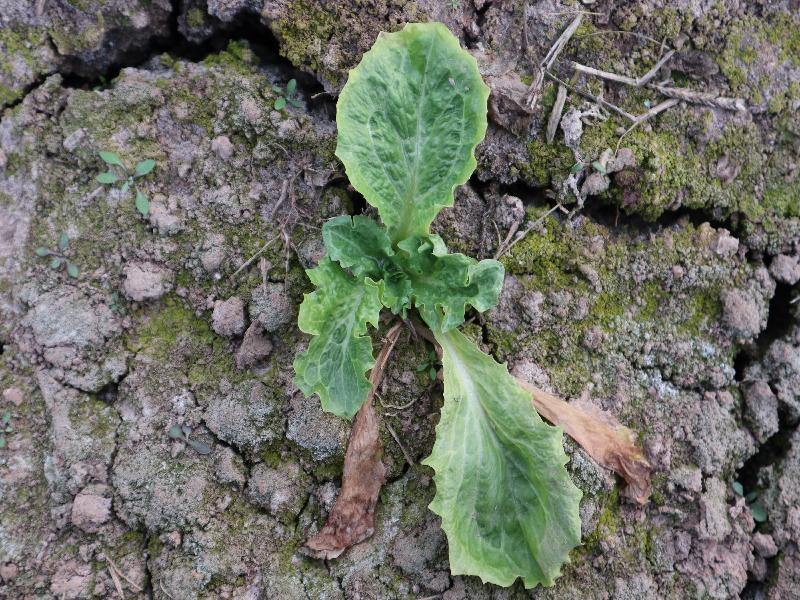lettuce: (290, 20, 584, 588)
